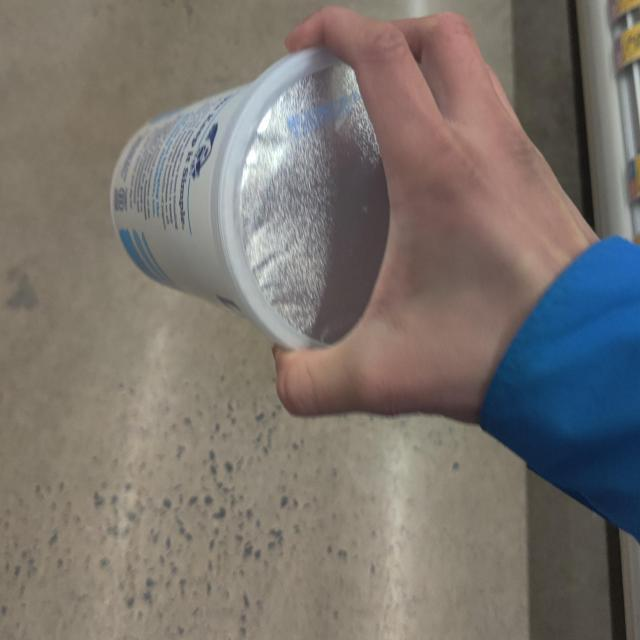Yoghurt: (111, 43, 396, 350)
